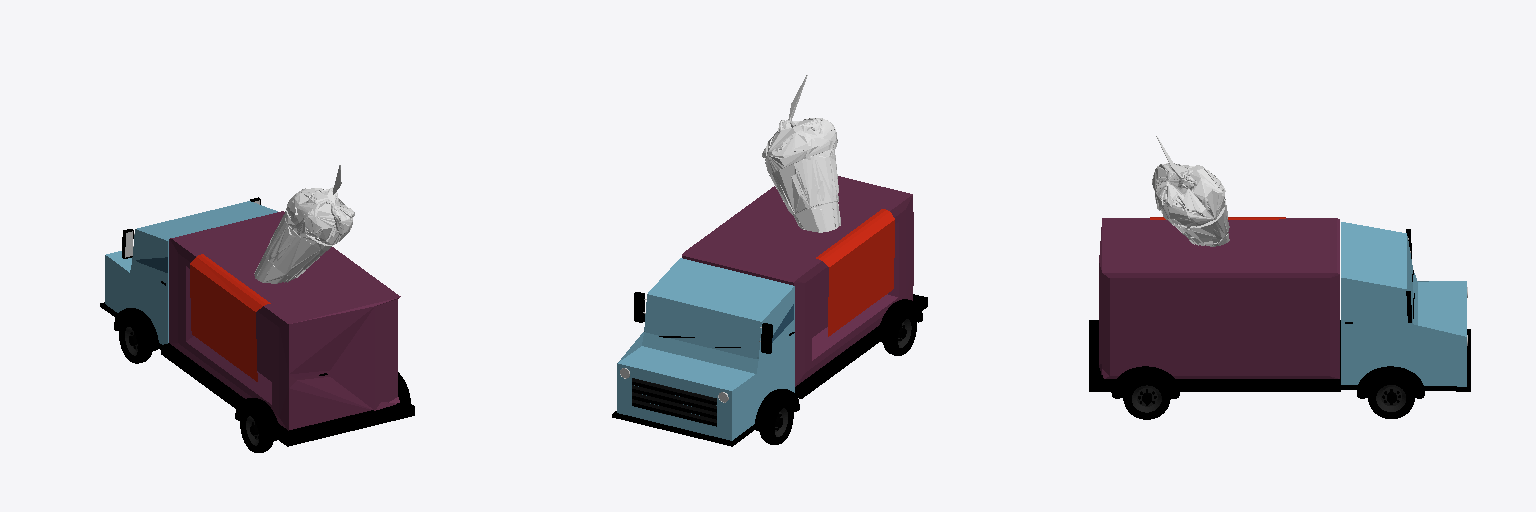
Rendered from DONDURMA.obj.
The picture shows the model from 3 angles: view 1: azimuth 30°, elevation 25°; view 2: azimuth 150°, elevation 25°; view 3: azimuth 270°, elevation 25°; orthographic projection.
Parts seen in each view (by area): view 1: Kasa_Cube, Gövde_Cube.001, Plane.001_Plane.003, 10861_Ice_Cream_v1_LOD1, Cube_Cube.006, Çamurluk.001_Torus.006, Çamurluk.003_Torus.010, tekerlek.001_Torus.005, tekerlek.003_Torus.009; view 2: Gövde_Cube.001, Kasa_Cube, 10861_Ice_Cream_v1_LOD1, Plane.001_Plane.003, Cube_Cube.006, ızgara_Cube.003, Izgara_Boşlu_Cube.004, Çamurluk.001_Torus.006, Çamurluk.003_Torus.010, Cube.001_Cube.005, tekerlek.001_Torus.005, tekerlek.003_Torus.009; view 3: Kasa_Cube, Gövde_Cube.001, 10861_Ice_Cream_v1_LOD1, Cube_Cube.006, Çamurluk.005_Torus.003, Çamurluk.004_Torus.012, tekerlek.004_Torus.011, tekerlek_Torus.001, Cube.001_Cube.005.
Part boxes in pixels (left/top/right/bottom): Kasa_Cube: left=169, top=211, right=400, bottom=430; Gövde_Cube.001: left=105, top=201, right=277, bottom=344; Plane.001_Plane.003: left=190, top=254, right=270, bottom=381; 10861_Ice_Cream_v1_LOD1: left=254, top=165, right=354, bottom=283; Cube_Cube.006: left=161, top=343, right=414, bottom=446; Çamurluk.001_Torus.006: left=114, top=308, right=158, bottom=351; Çamurluk.003_Torus.010: left=235, top=398, right=278, bottom=441; tekerlek.001_Torus.005: left=119, top=319, right=151, bottom=363; tekerlek.003_Torus.009: left=240, top=409, right=273, bottom=452; Gövde_Cube.001: left=617, top=258, right=794, bottom=440; Kasa_Cube: left=682, top=176, right=913, bottom=386; 10861_Ice_Cream_v1_LOD1: left=762, top=75, right=840, bottom=232; Plane.001_Plane.003: left=816, top=209, right=894, bottom=336; Cube_Cube.006: left=795, top=294, right=927, bottom=398; ızgara_Cube.003: left=632, top=378, right=716, bottom=424; Izgara_Boşlu_Cube.004: left=632, top=382, right=716, bottom=426; Çamurluk.001_Torus.006: left=755, top=389, right=799, bottom=432; Çamurluk.003_Torus.010: left=880, top=299, right=922, bottom=342; Cube.001_Cube.005: left=612, top=394, right=797, bottom=446; tekerlek.001_Torus.005: left=760, top=400, right=793, bottom=444; tekerlek.003_Torus.009: left=883, top=311, right=916, bottom=355; Kasa_Cube: left=1099, top=218, right=1339, bottom=378; Gövde_Cube.001: left=1341, top=222, right=1466, bottom=386; 10861_Ice_Cream_v1_LOD1: left=1152, top=136, right=1229, bottom=246; Cube_Cube.006: left=1089, top=320, right=1340, bottom=391; Çamurluk.005_Torus.003: left=1357, top=366, right=1424, bottom=398; Çamurluk.004_Torus.012: left=1111, top=366, right=1179, bottom=398; tekerlek.004_Torus.011: left=1123, top=379, right=1170, bottom=419; tekerlek_Torus.001: left=1368, top=379, right=1414, bottom=418; Cube.001_Cube.005: left=1341, top=329, right=1470, bottom=391.
Size of the model in its own units: 2.56 by 4.36 by 5.77.